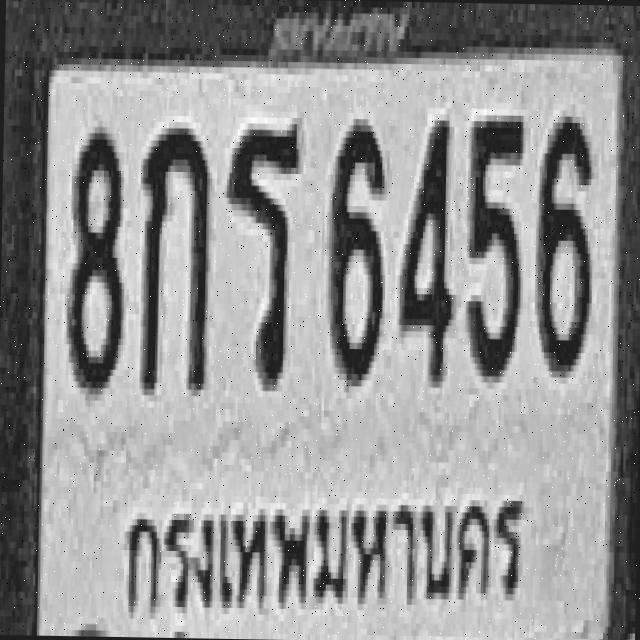10GorGai: (139, 122, 210, 390)
4: (398, 114, 454, 382)
44RorRuea: (224, 120, 300, 388)
5: (464, 112, 524, 380)
6: (534, 112, 594, 374), (326, 118, 385, 380)
8: (65, 126, 124, 394)
Bangkok: (116, 456, 530, 632)
